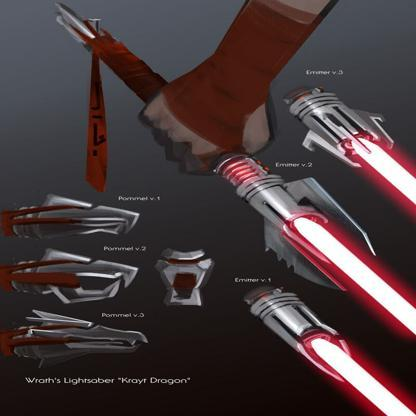sith_lightsaber: (55, 25, 416, 332), (245, 286, 416, 416), (287, 86, 416, 207)
